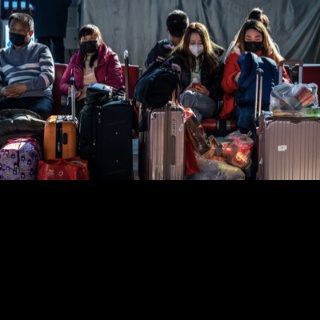with_mask: (8, 22, 29, 45), (80, 33, 99, 53), (243, 33, 263, 51), (188, 38, 204, 56)
